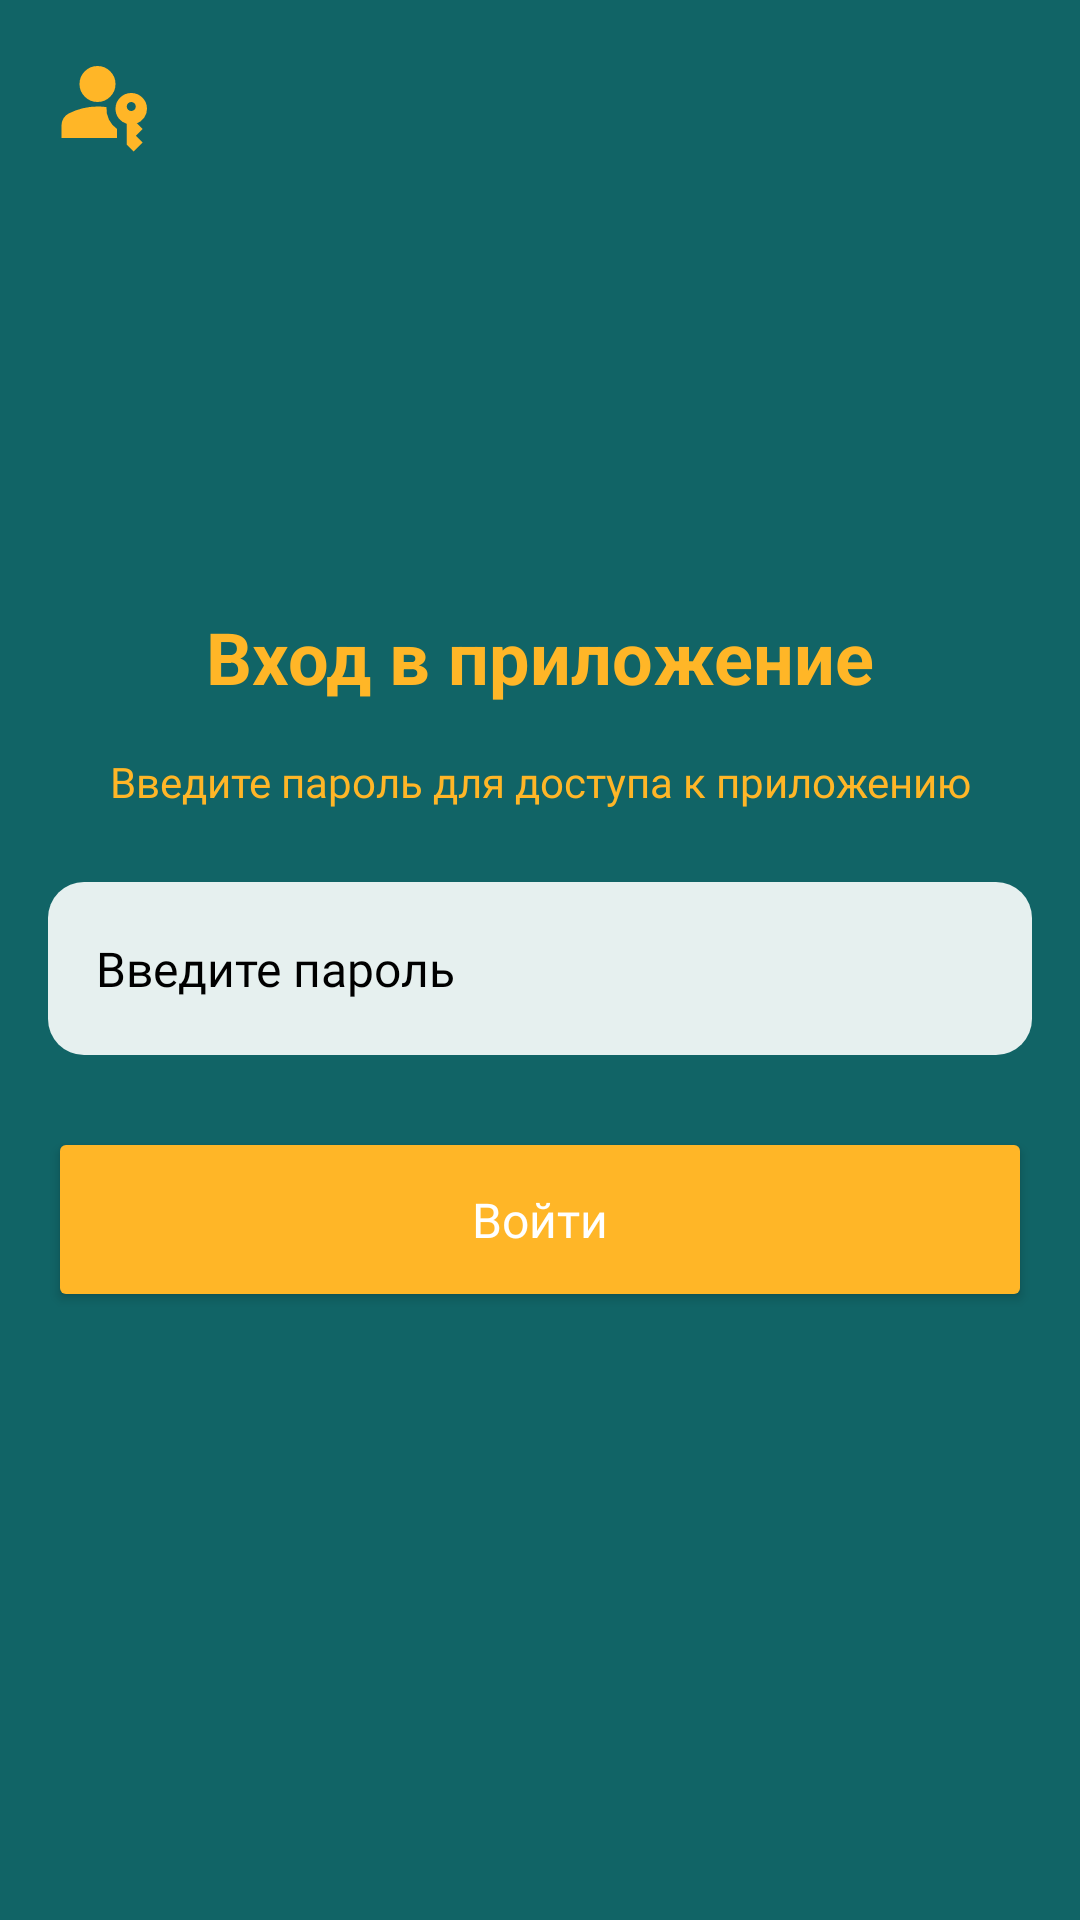

Named icons in this screenshot (1080px×1920px) and their bounding boxes, Rect(x1, y1, x2, y2):
change passkey: Rect(61, 66, 147, 152)
